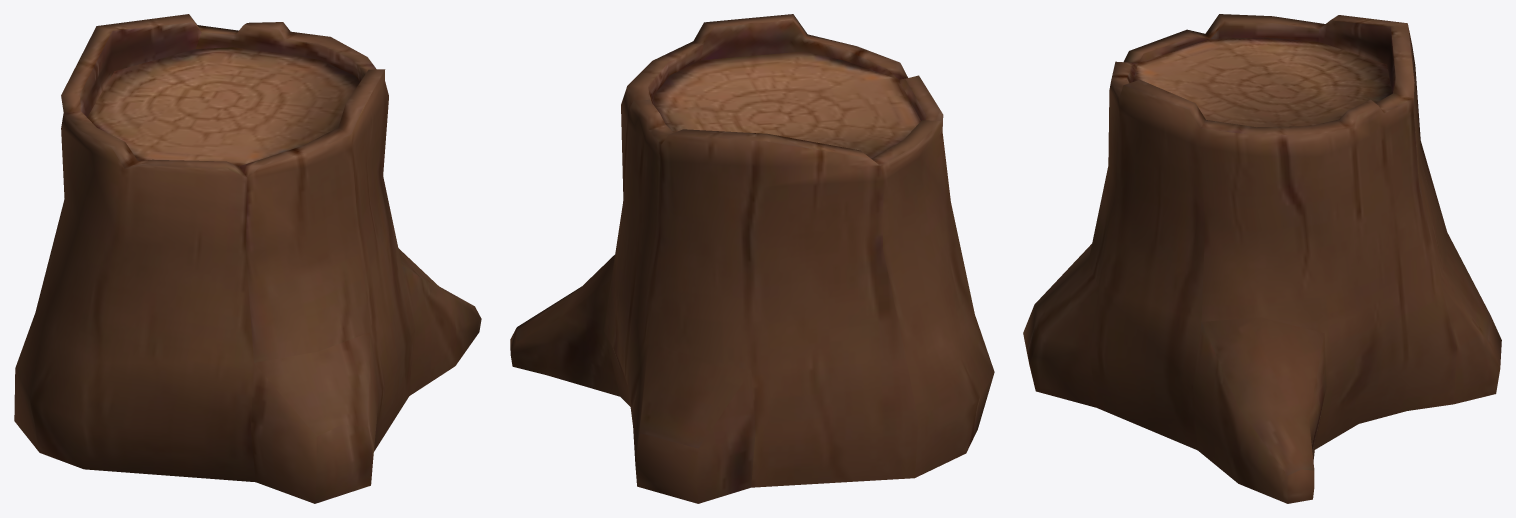
File: stump01-ecmwtjp9.glb
3 views of the same model, side by side, from view 1: azimuth 30°, elevation 25°; view 2: azimuth 150°, elevation 25°; view 3: azimuth 270°, elevation 25° (orthographic). The views are drawn at different scales.
Visible parts, largest first — view 1: stump01; view 2: stump01; view 3: stump01.
Boxes of the visible parts, x1,y1,x2,y2 form: stump01: [14, 14, 481, 503]; stump01: [510, 14, 994, 503]; stump01: [1023, 14, 1501, 503].
Size of the model in its own units: 0.9293 by 0.6589 by 0.8568.
Materials: 1 (1 with a texture image).
